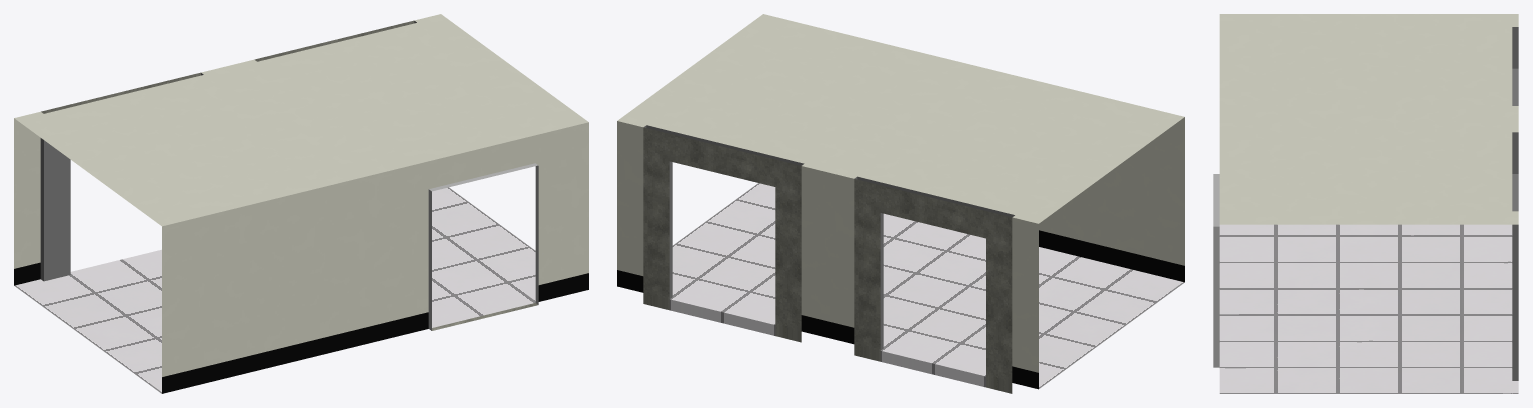
Rendered from elevator_corridor.glb.
3 renders of one model, left to right at view 1: azimuth 30°, elevation 25°; view 2: azimuth 150°, elevation 25°; view 3: azimuth 270°, elevation 25°, orthographic. The views are drawn at different scales.
Parts seen in each view (by area): view 1: ElevatorCorridor; view 2: ElevatorCorridor; view 3: ElevatorCorridor.
Part boxes in pixels (x1,y1,x2,y2): ElevatorCorridor: (14,14,588,393); ElevatorCorridor: (617,14,1184,393); ElevatorCorridor: (1213,14,1518,393).
Bounding box in the file's own units: 8 × 3.2 × 4.9.
6 materials, 3 textured.
